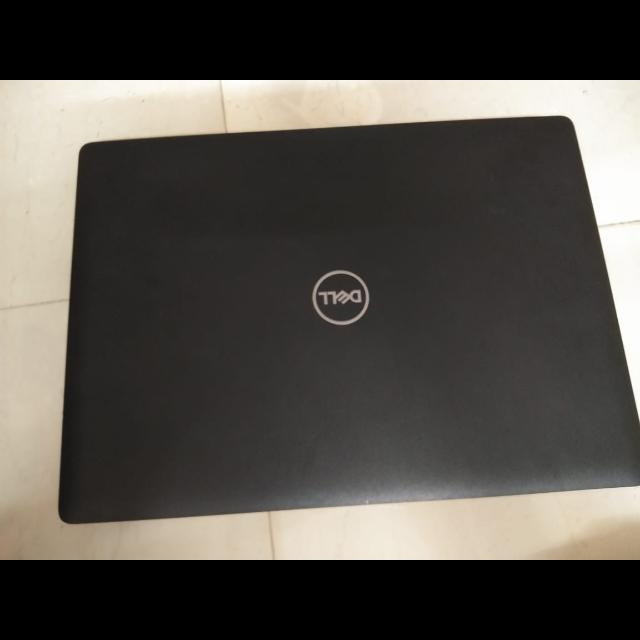Laptop: (51, 109, 640, 531)
